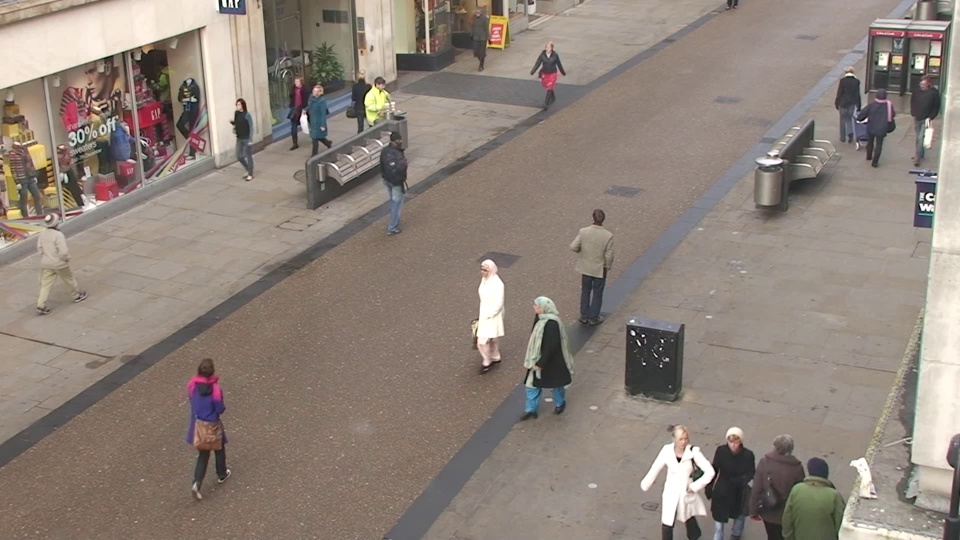pedestrian: (182, 347, 243, 501), (701, 414, 762, 540), (749, 420, 812, 540), (650, 413, 709, 540), (31, 207, 87, 325), (781, 442, 847, 540), (520, 289, 564, 430), (469, 251, 513, 384), (579, 204, 617, 324), (899, 74, 942, 164), (857, 87, 896, 178), (381, 128, 416, 227), (227, 95, 262, 183), (830, 62, 866, 146), (304, 80, 336, 165), (285, 72, 316, 154), (367, 74, 397, 157), (348, 66, 378, 147), (537, 39, 563, 113), (470, 4, 493, 68)
